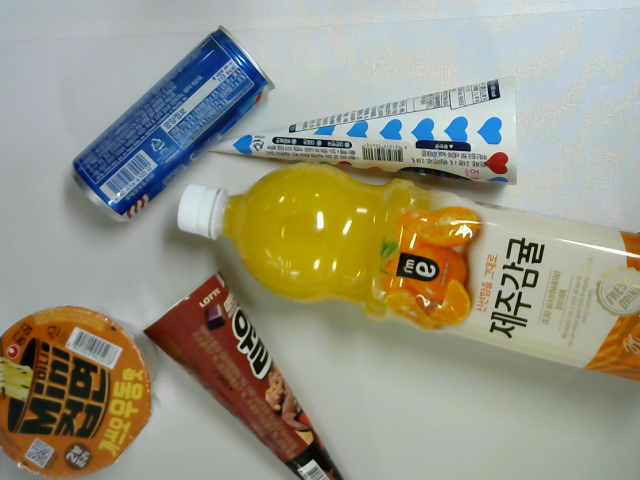Bravo_Cone_(Banila)_CVS: (208, 74, 523, 186)
Jeju_Tangerine_1.5L: (175, 160, 640, 380)
Pepsi_Cola_Can_250ml: (59, 23, 275, 225)
Udongmini: (1, 306, 159, 480)
World_Cone_Choco: (145, 269, 343, 480)
